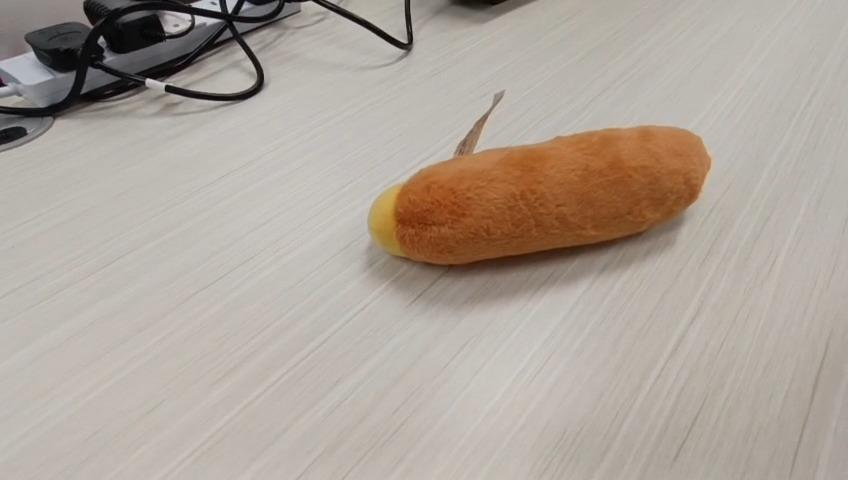hotdog: (366, 90, 711, 266)
